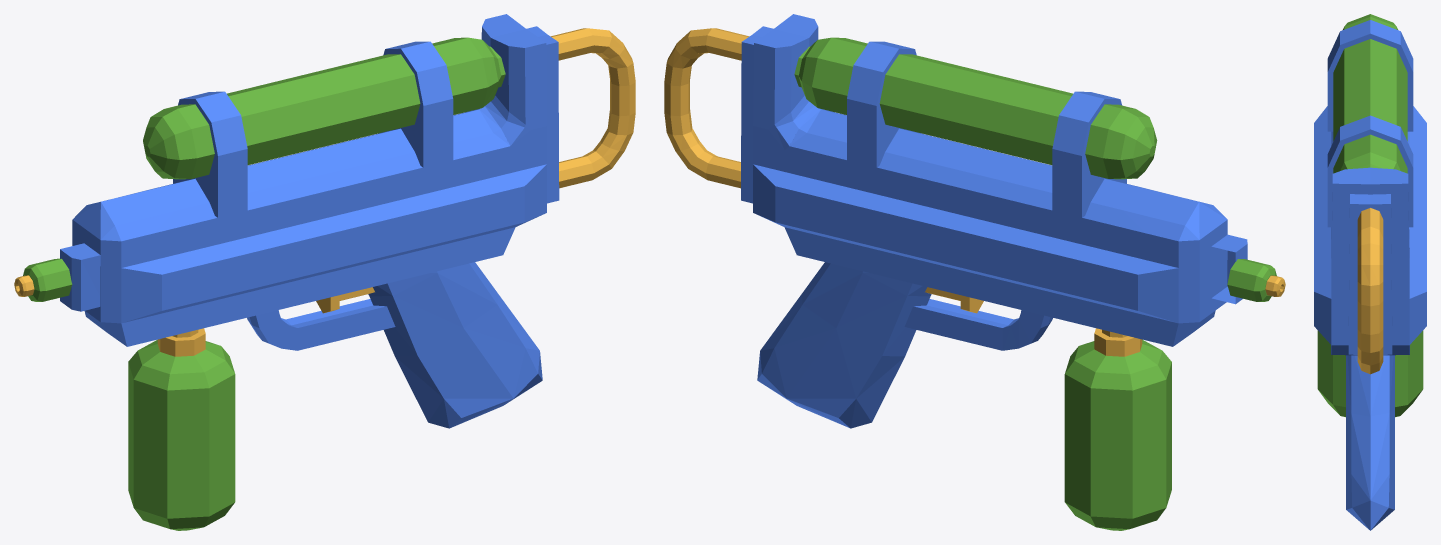
File: Watergun_04.fbx
The picture shows the model from 3 angles, left to right: view 1: azimuth 30°, elevation 25°; view 2: azimuth 150°, elevation 25°; view 3: azimuth 270°, elevation 25°; orthographic projection. The views are drawn at different scales.
Visible parts, largest first — view 1: Watergun_03; view 2: Watergun_03; view 3: Watergun_03.
Part boxes in pixels (x1=…): Watergun_03: x1=14, y1=14, x2=635, y2=530; Watergun_03: x1=664, y1=14, x2=1285, y2=530; Watergun_03: x1=1314, y1=14, x2=1426, y2=530.
Bounding box in the file's own units: 44.02 × 28.89 × 7.31.
